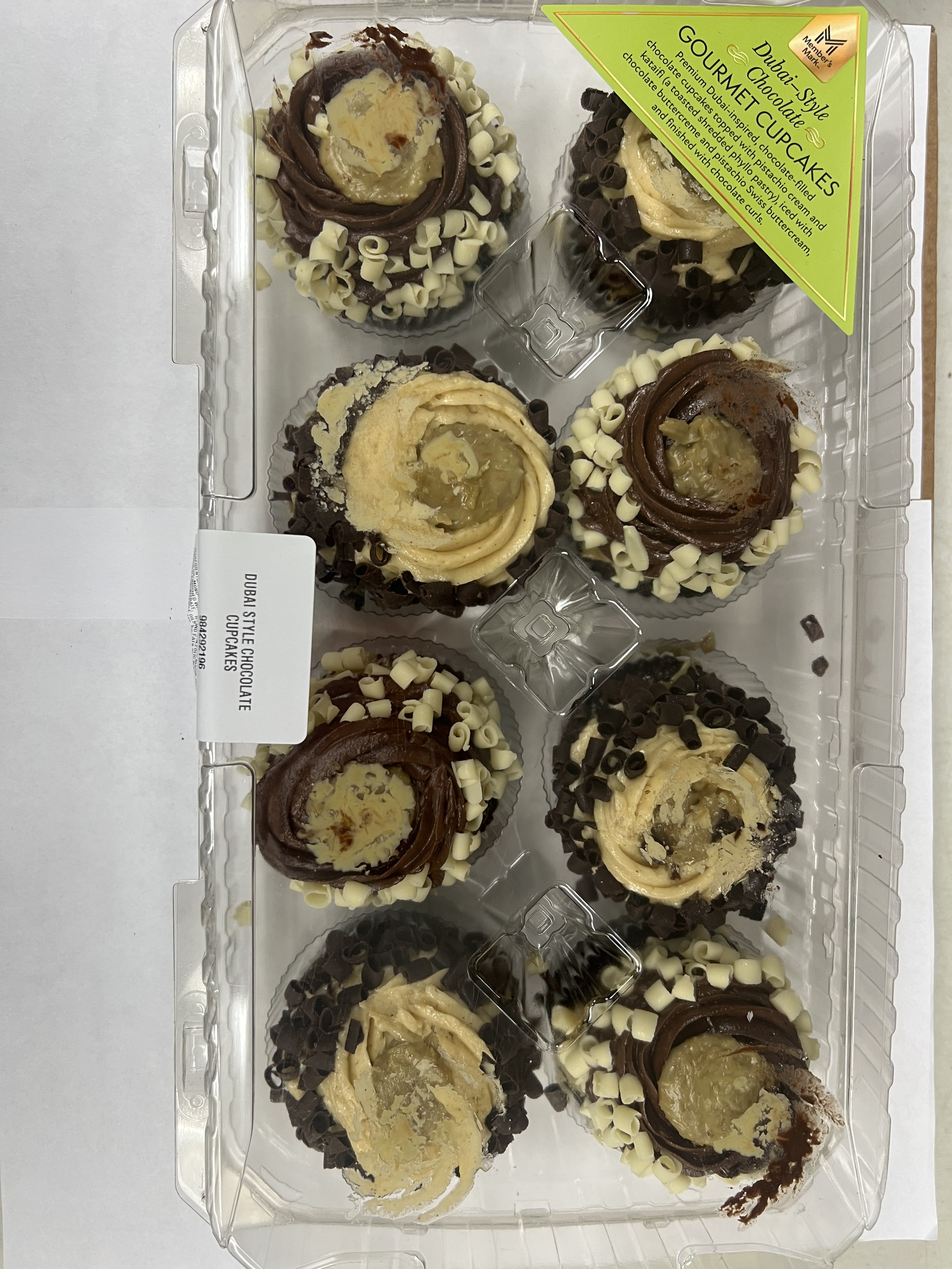bakery: (201, 34, 901, 1264)
